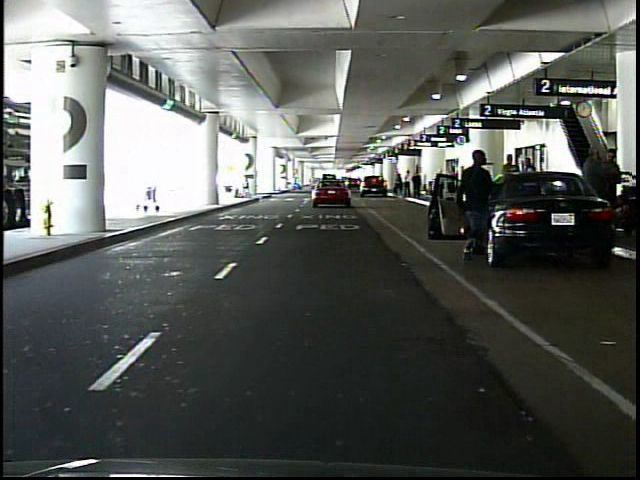person: (461, 149, 494, 269), (587, 146, 623, 239), (579, 142, 609, 229), (500, 152, 523, 216), (521, 156, 540, 216), (403, 169, 413, 199), (413, 171, 423, 200), (396, 173, 405, 197), (291, 176, 300, 193)
